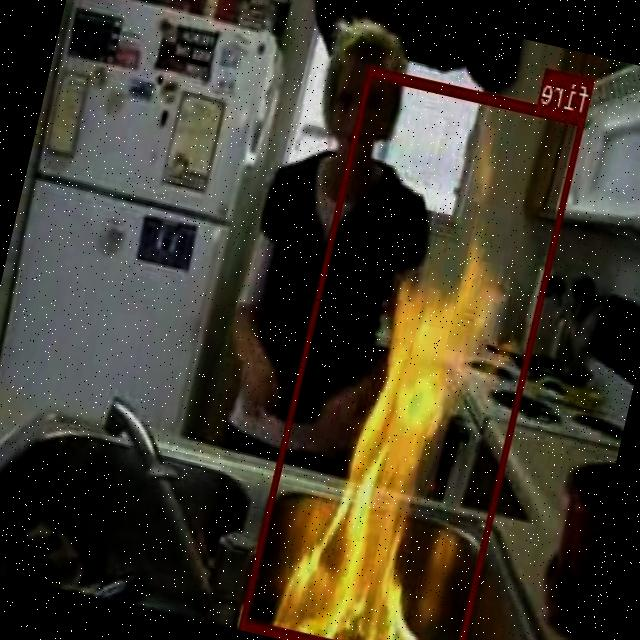fire: (241, 65, 587, 640)
